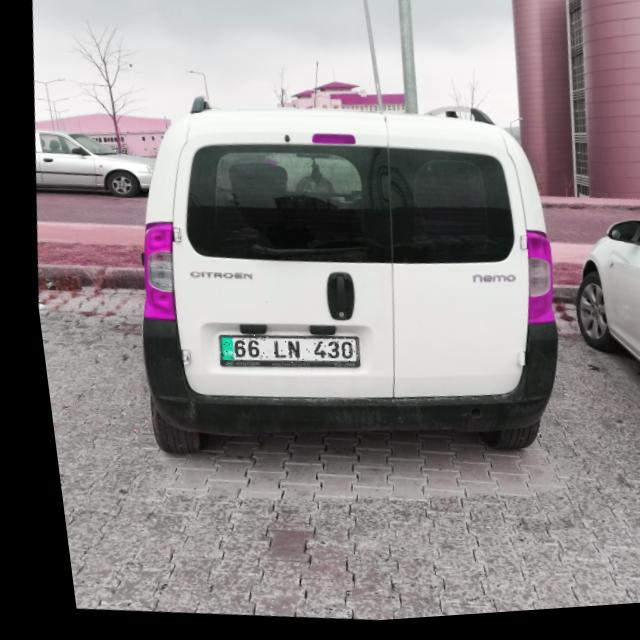license_plate: (207, 328, 351, 376)
